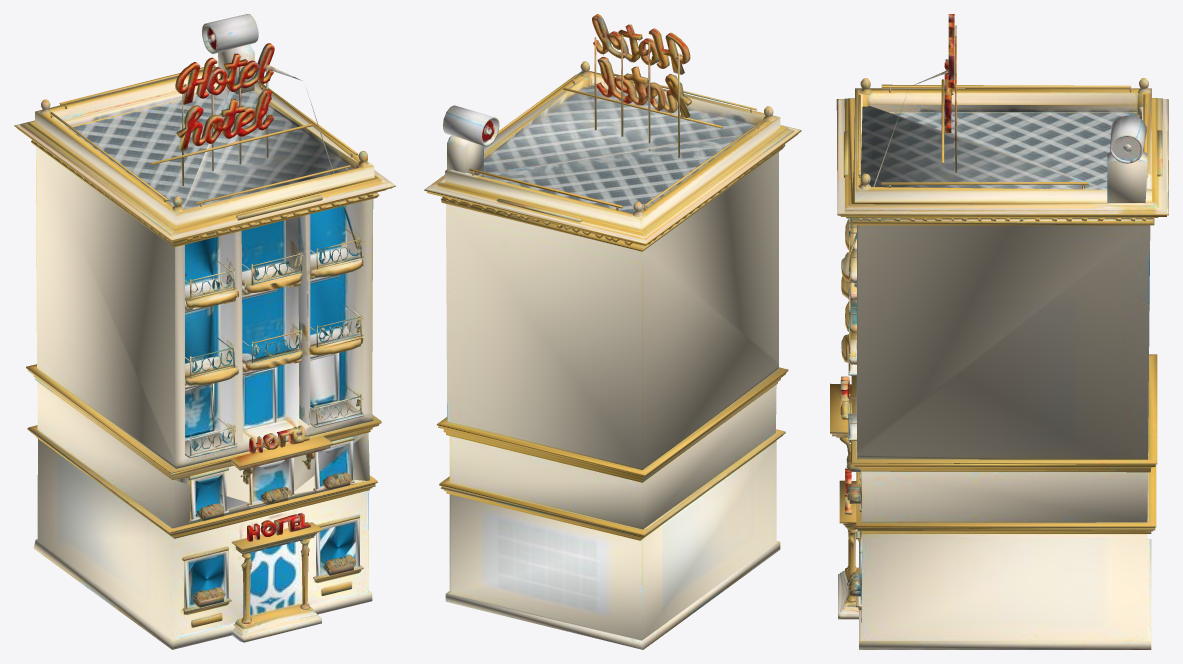
The model's file is lm_hotel.glb.
3 renders of one model, left to right at view 1: azimuth 30°, elevation 25°; view 2: azimuth 150°, elevation 25°; view 3: azimuth 270°, elevation 25°, orthographic. The views are drawn at different scales.
Bounding box in the file's own units: 0.4146 × 0.9521 × 0.5146.
1 material, 1 textured.
